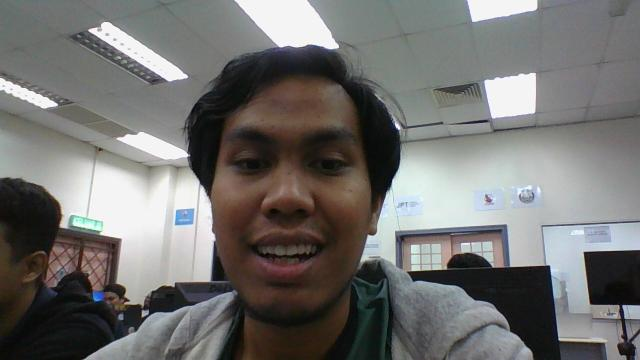senang: (198, 49, 380, 320)
